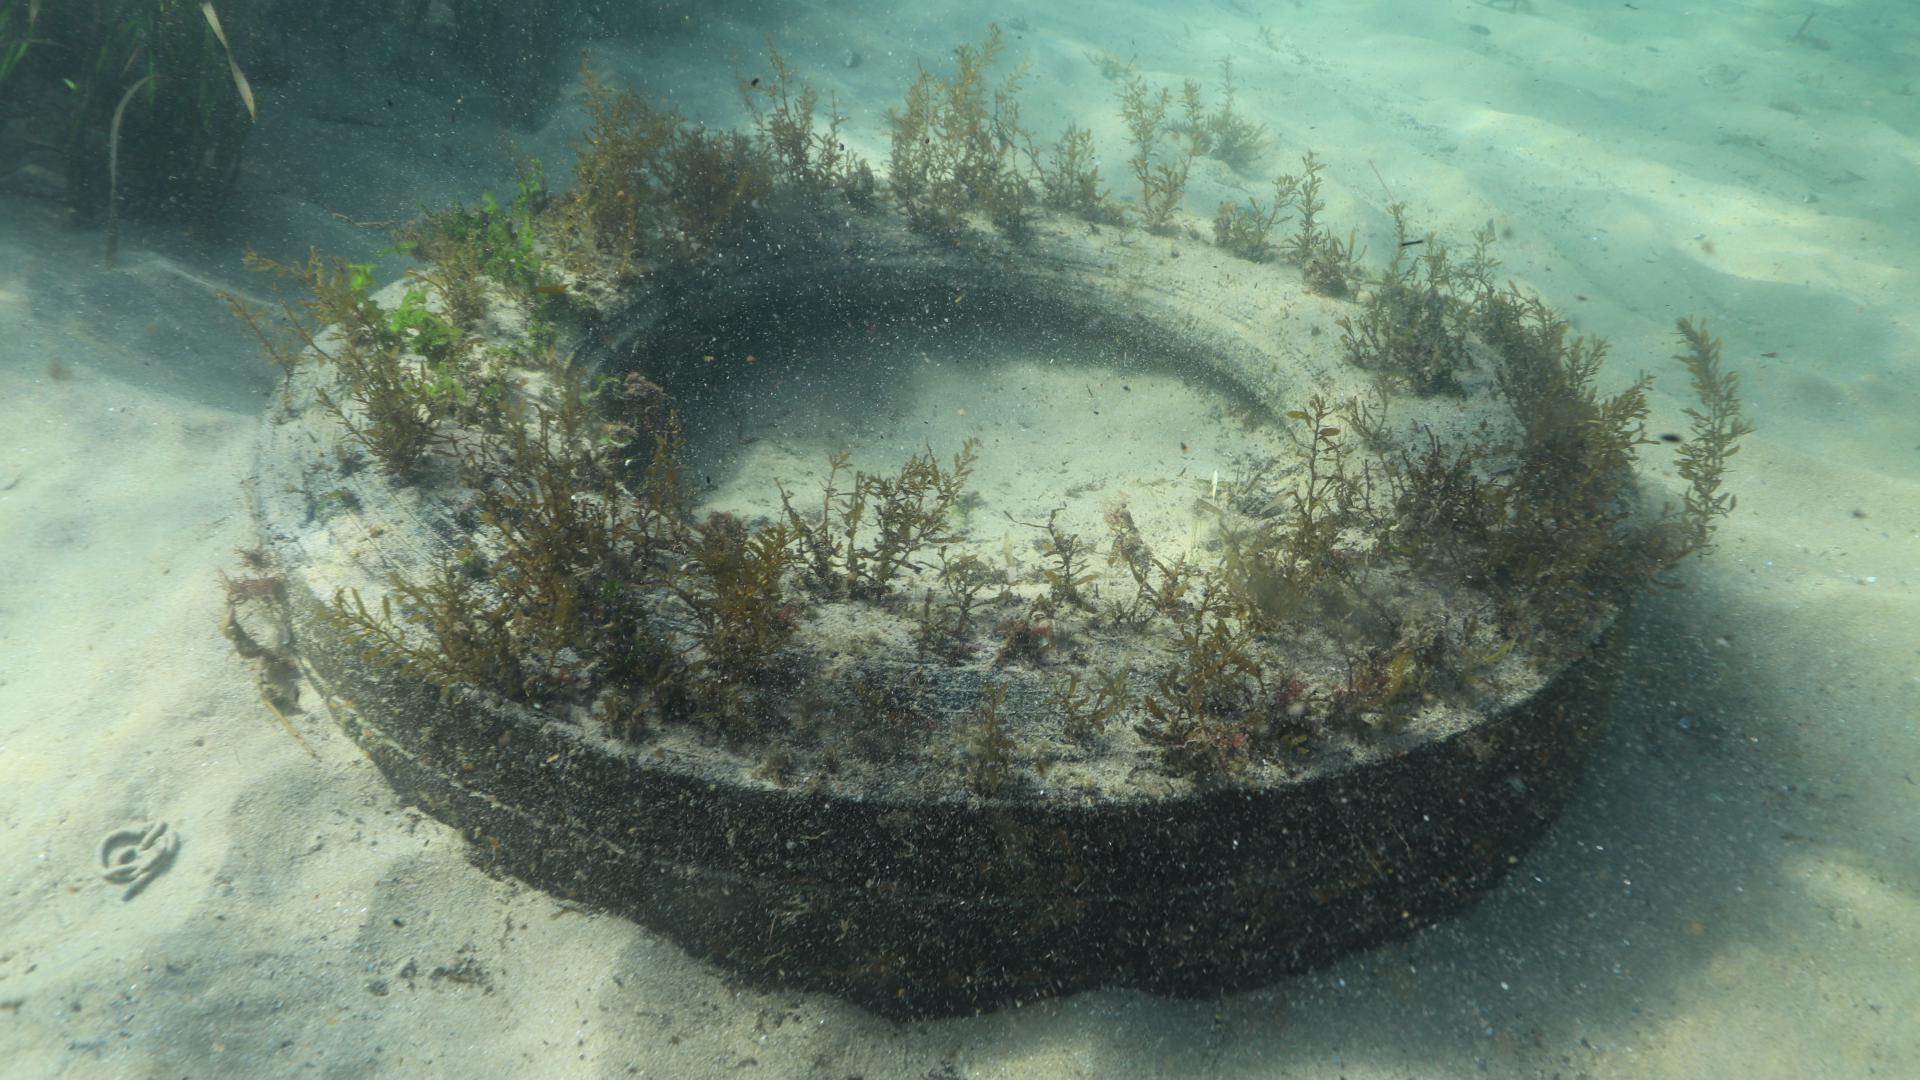tire: (249, 174, 1644, 1025)
